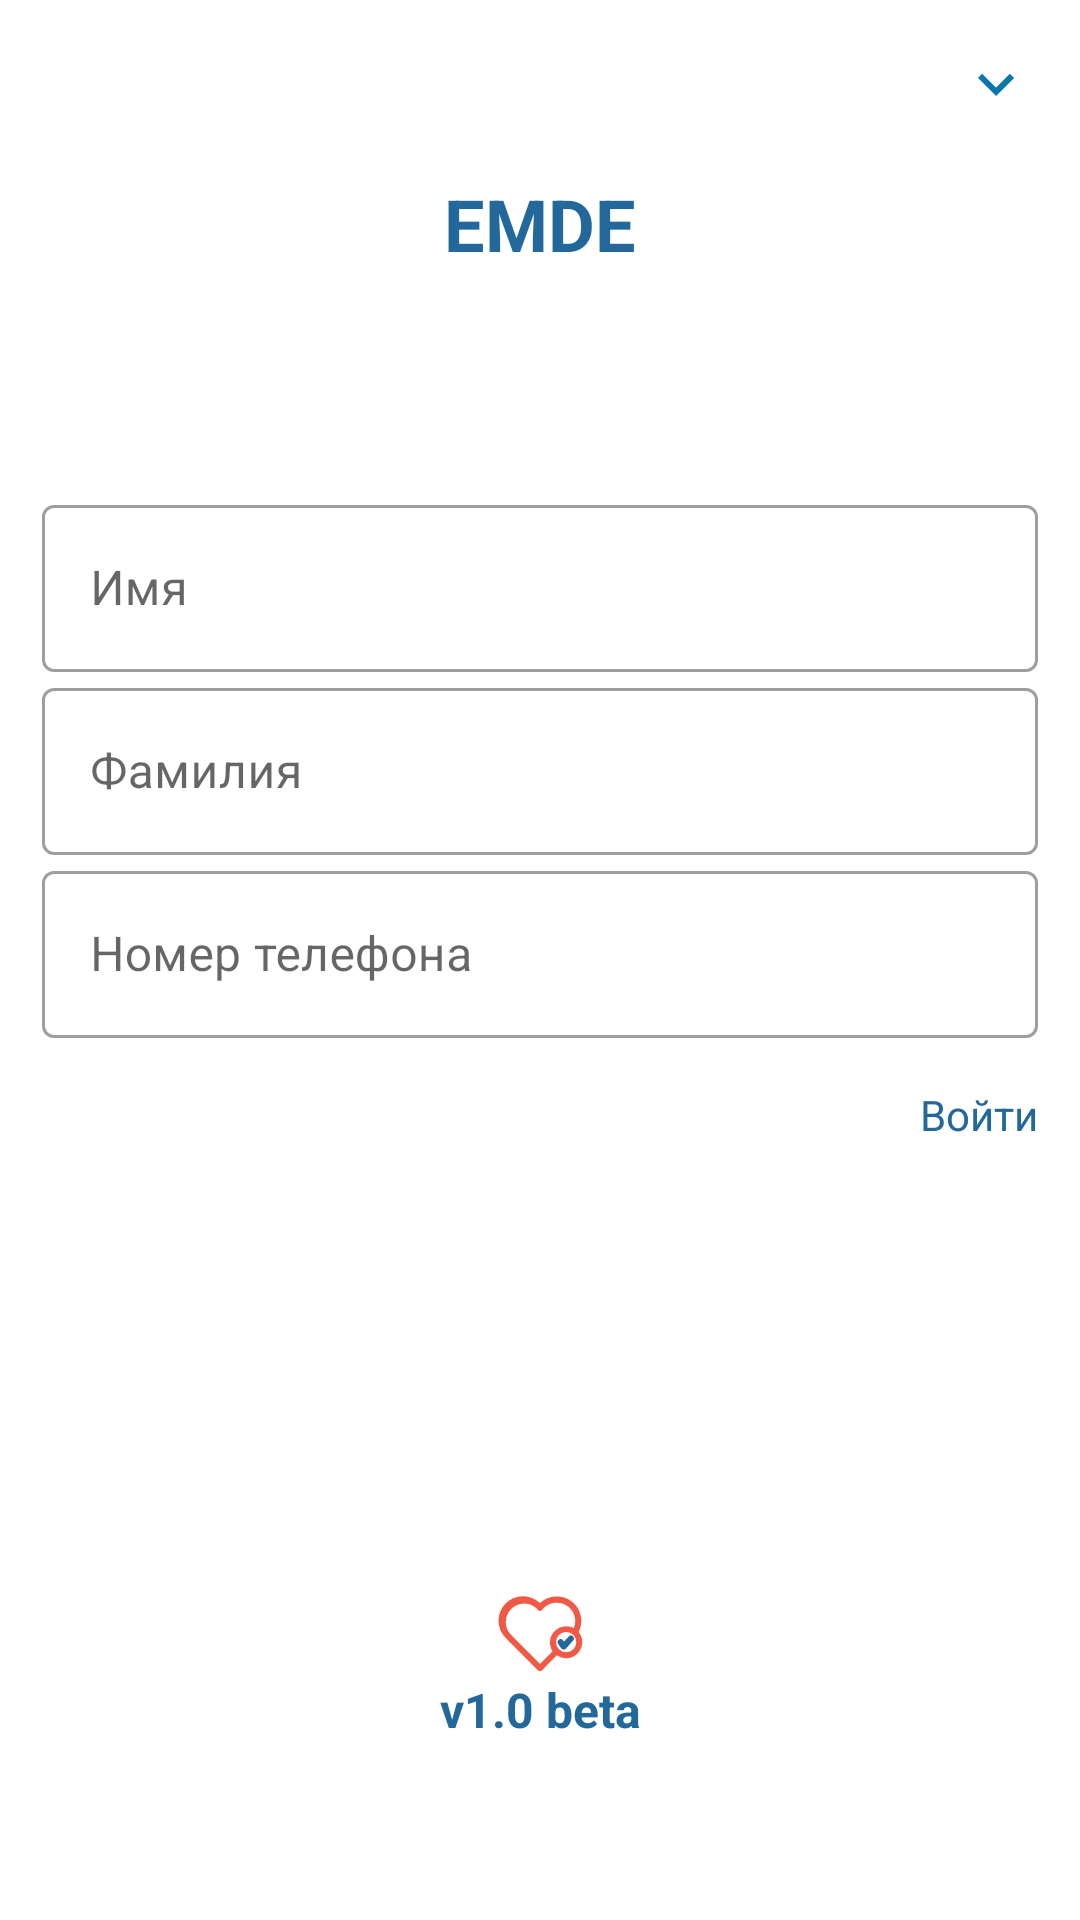

Point at icon controls on the screen. Image size 1080px×1920px, points as (x,y).
Hide registration activity: (996,85)
